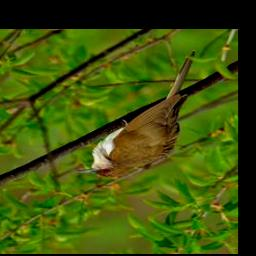Cuckoo: (78, 49, 197, 180)
